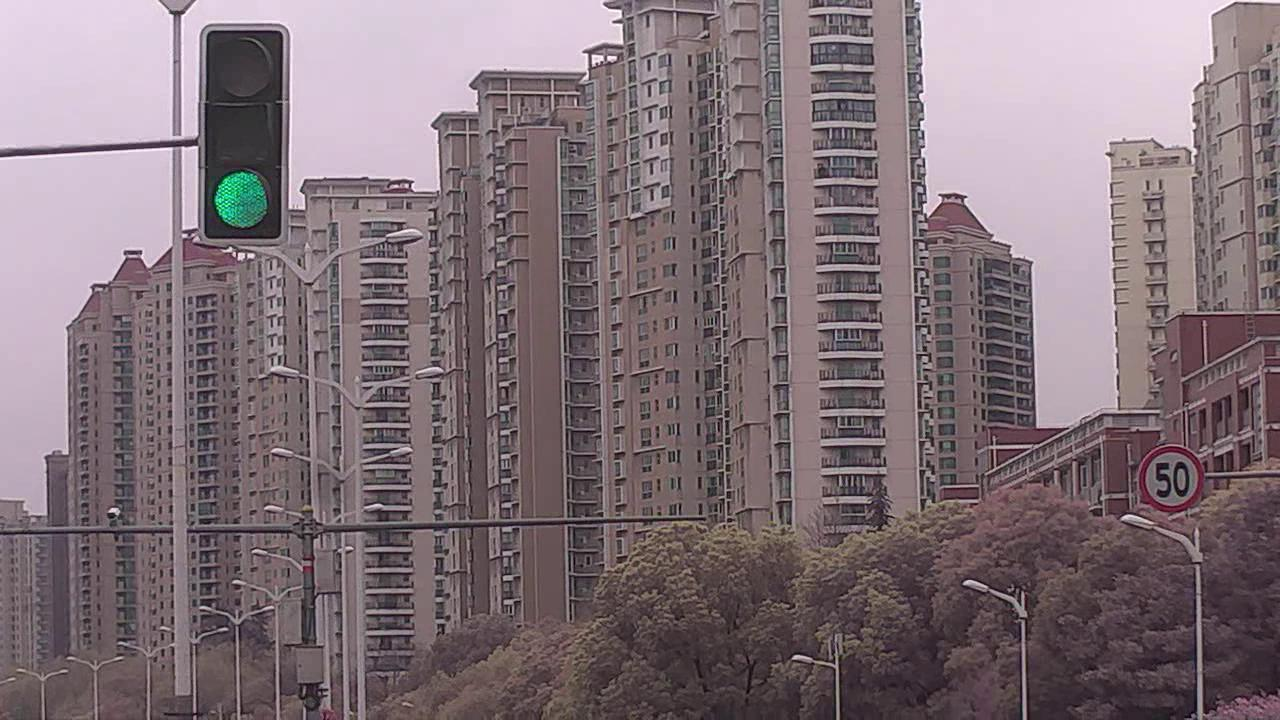traffic_light: (204, 19, 289, 235)
